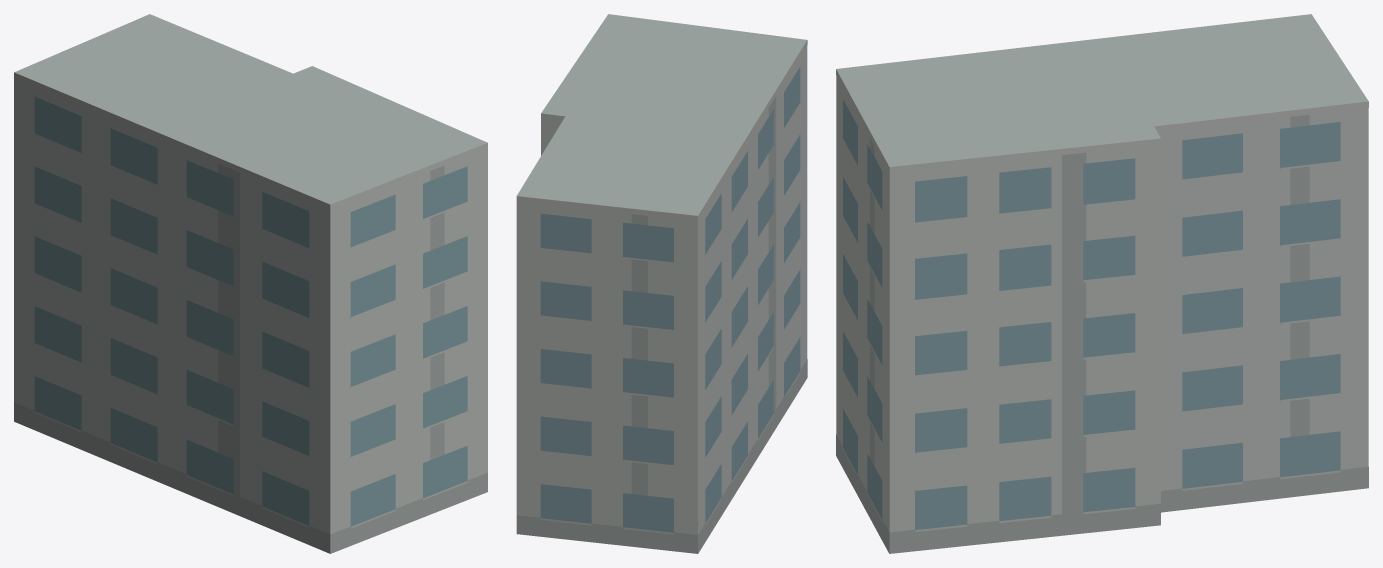
File: survey-upis-32763633.glb
The picture shows the model from 3 angles, left to right: view 1: azimuth 30°, elevation 25°; view 2: azimuth 150°, elevation 25°; view 3: azimuth 270°, elevation 25°; orthographic projection. The views are drawn at different scales.
Parts seen in each view (by area): view 1: survey-upis-32763633.tmp; view 2: survey-upis-32763633.tmp; view 3: survey-upis-32763633.tmp.
Part boxes in pixels (bbox=[...]): survey-upis-32763633.tmp: bbox=[14, 14, 487, 553]; survey-upis-32763633.tmp: bbox=[516, 14, 807, 553]; survey-upis-32763633.tmp: bbox=[836, 14, 1368, 553].
Bounding box in the file's own units: 12.79 × 15.06 × 18.81.
